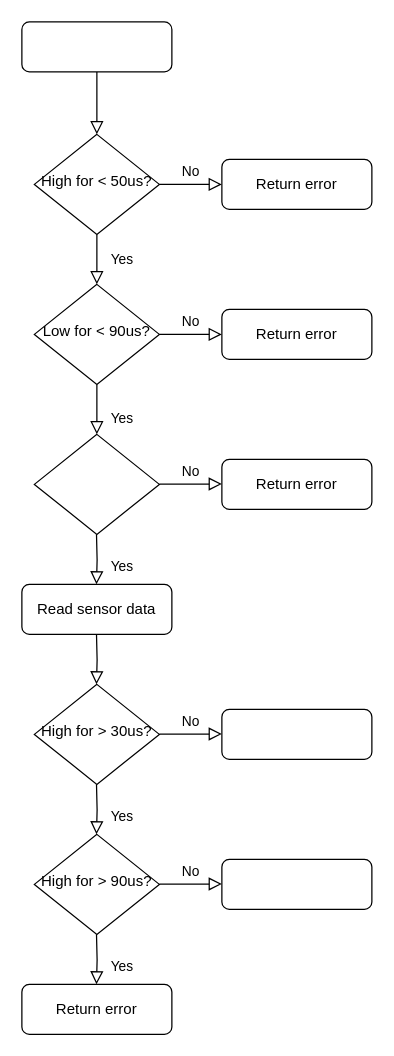
Image size: 394x1056. Some labels were removed from this diagram. The shapes that lost their labels are listed below. From the top down, each one's centre as x and y in pixels, then its label:
At (x=96, y=46): "Send start signal".
At (x=96, y=483): "High for < 90us?".
At (x=296, y=733): "Set bit 0".
At (x=296, y=883): "Set bit 1".
